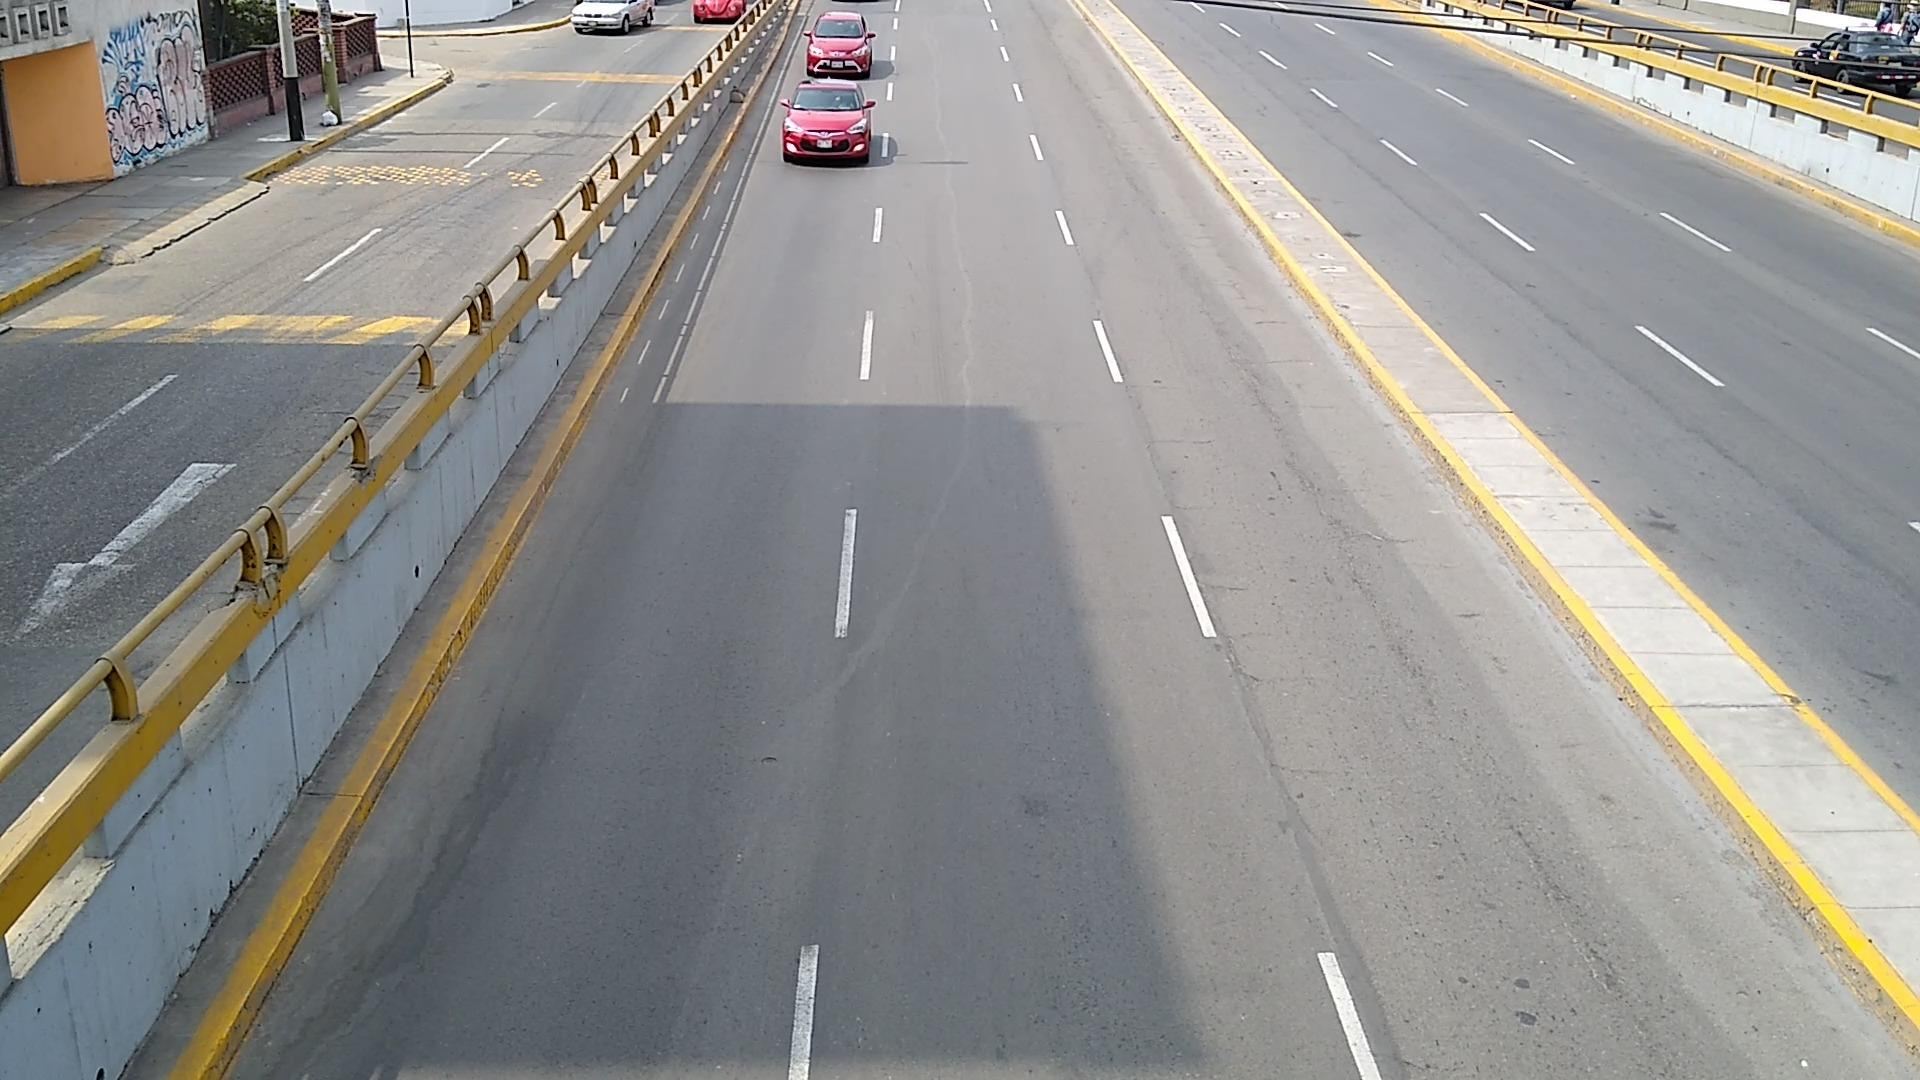car: (1792, 30, 1920, 98), (780, 79, 874, 165), (780, 82, 874, 161), (806, 8, 874, 73)
